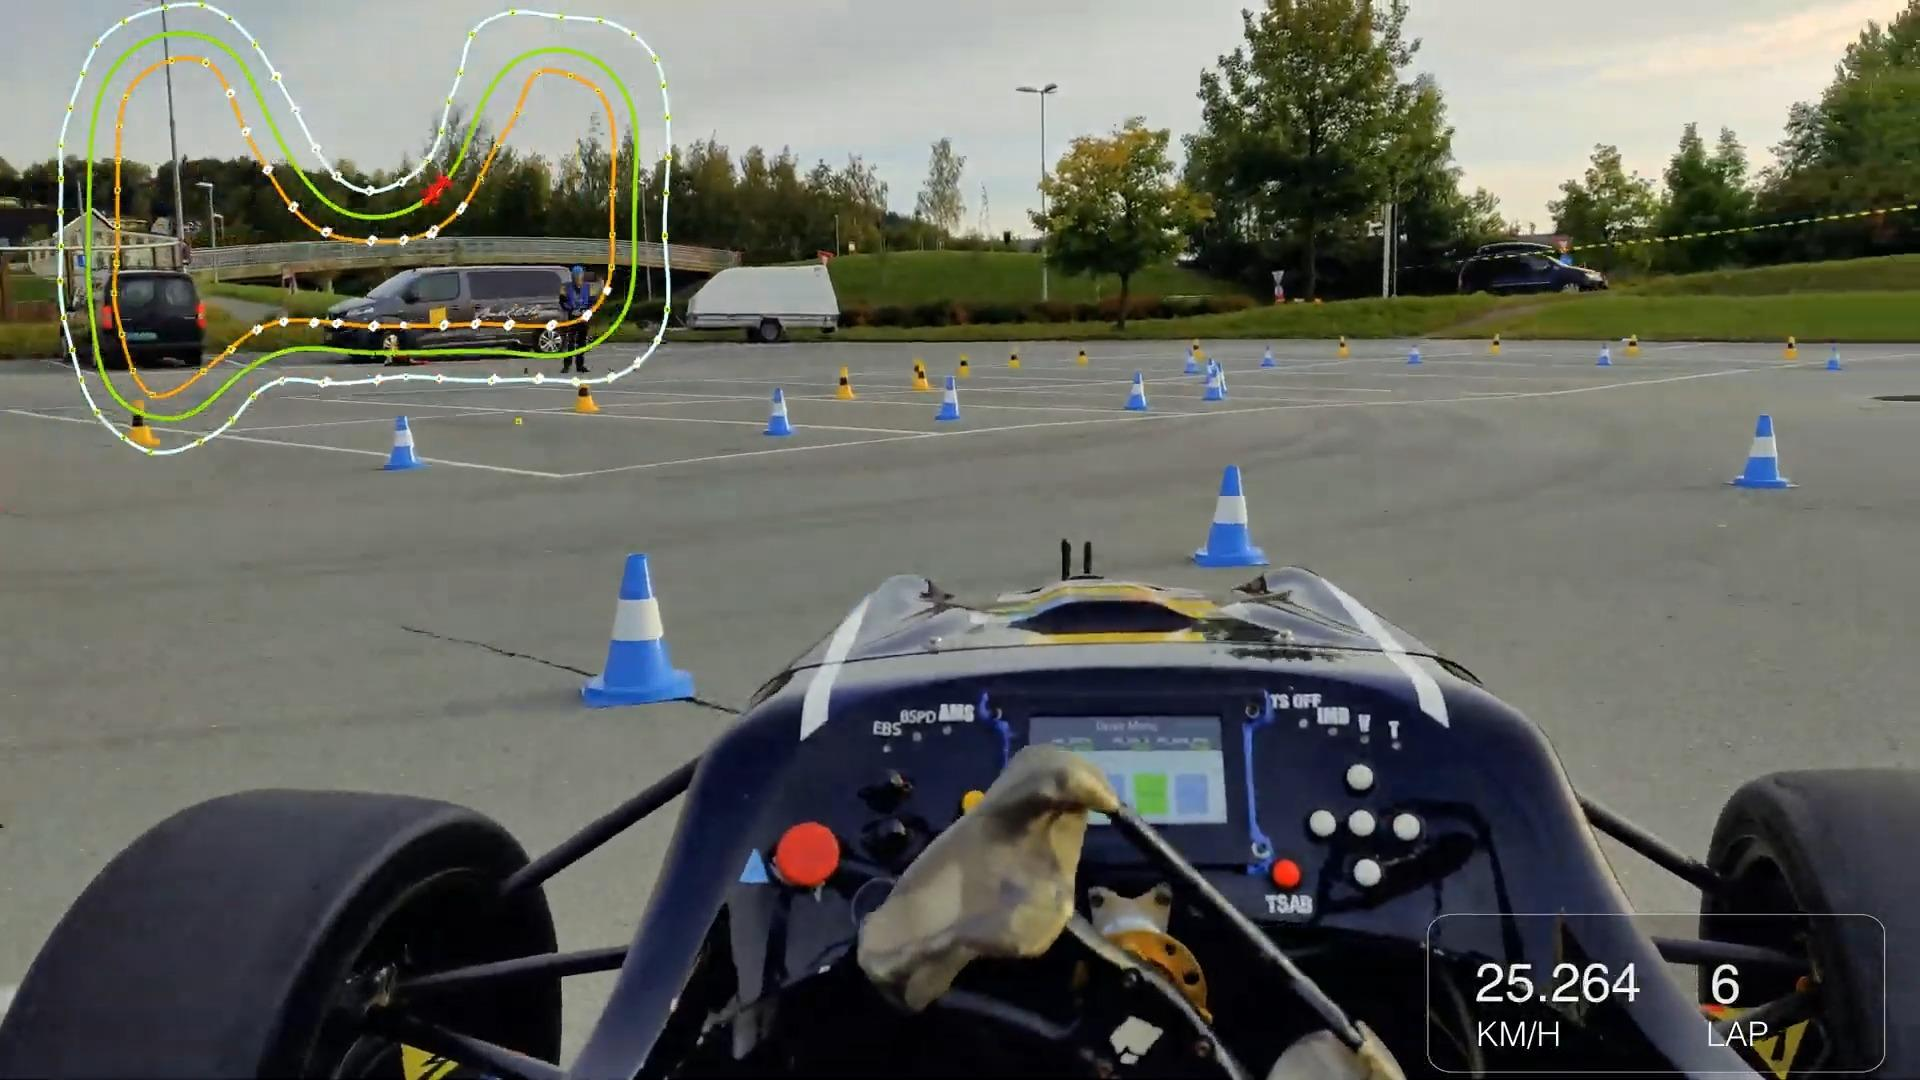blue_cone: (592, 546, 705, 721), (1203, 451, 1270, 567), (1727, 409, 1805, 504), (377, 404, 442, 498), (737, 376, 808, 454), (926, 377, 998, 444)
